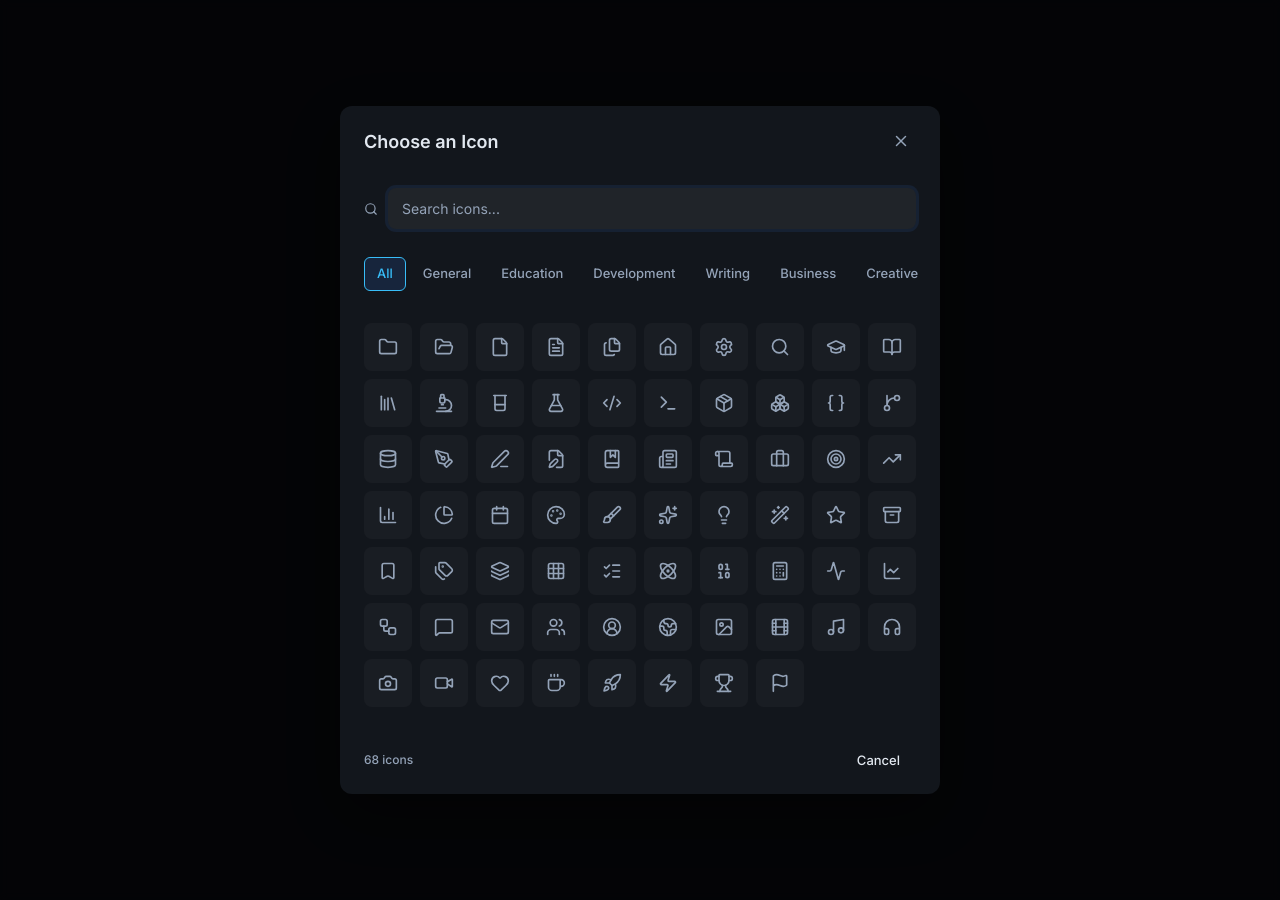
Test case: IconPicker Component › shows no results message when search matches nothing
This screenshot has width=1280, height=900.
Step 1. Type "xyz123nonexistent" into the field with placeholder "Search icons..." → (652, 208), box [388,188,916,229]
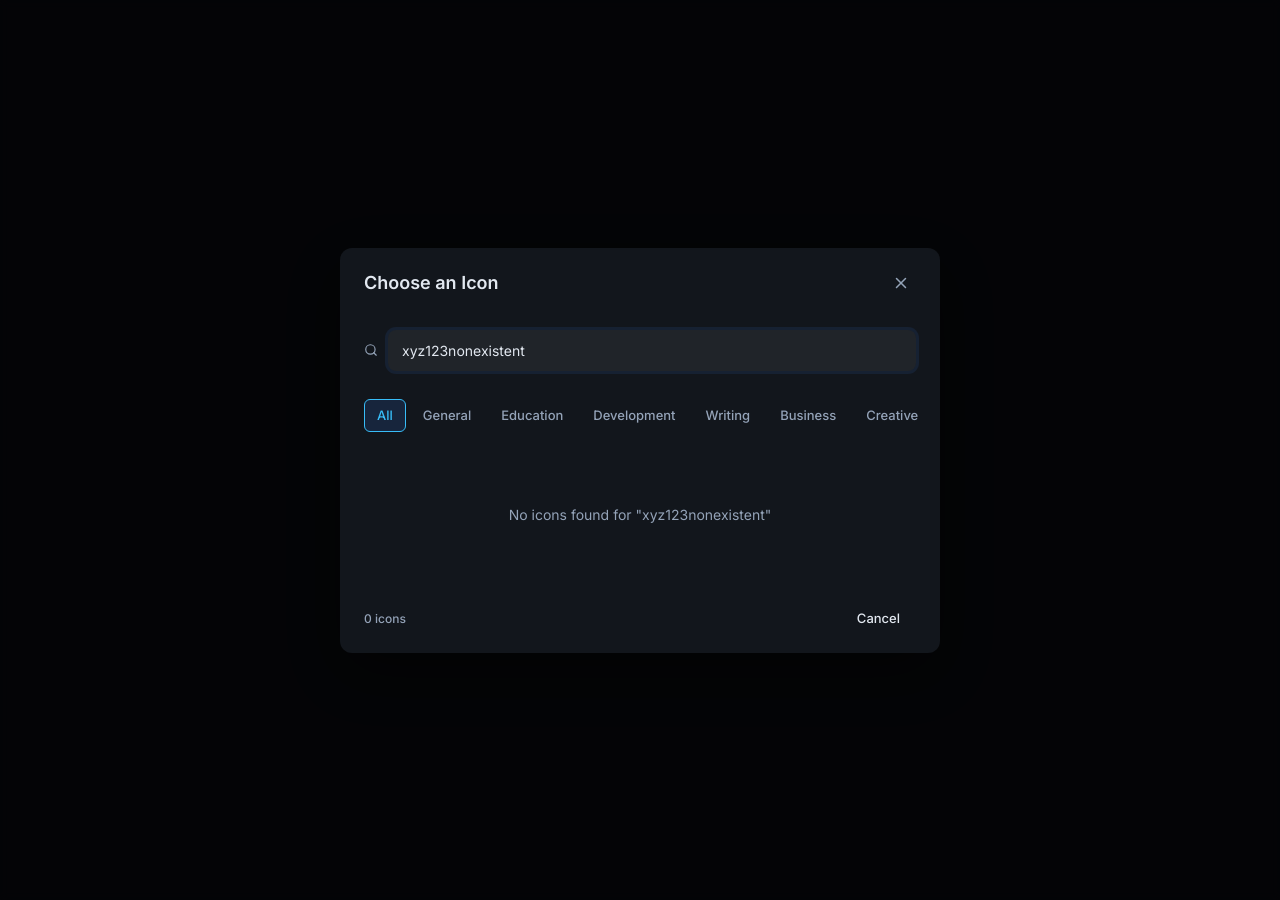
Result: the text "No icons found for \"xyz123nonexistent\"" is shown at [509,506,771,523]
